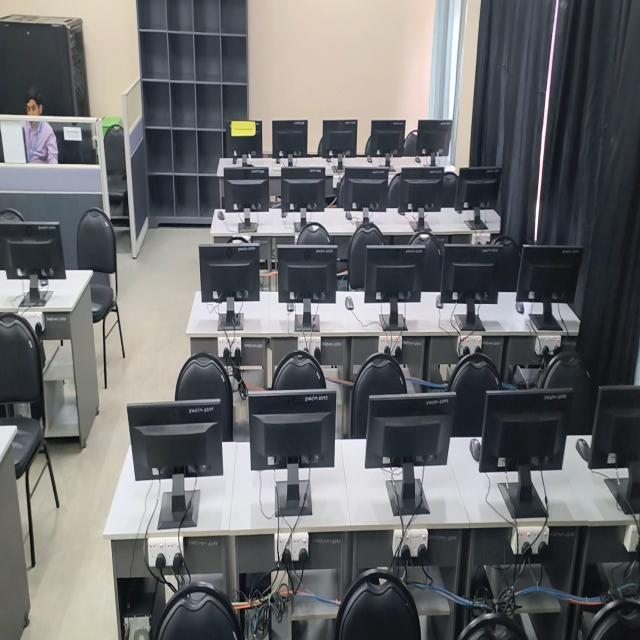Chair: (0, 313, 59, 507), (77, 208, 124, 377), (335, 568, 421, 639), (537, 343, 597, 434), (175, 353, 233, 441), (155, 582, 243, 639), (350, 352, 407, 438), (447, 350, 503, 437), (104, 119, 129, 225), (348, 222, 384, 289), (271, 350, 326, 390), (409, 228, 443, 292), (587, 600, 640, 639), (457, 612, 527, 639), (492, 235, 520, 291), (296, 222, 332, 244), (388, 173, 401, 207), (403, 130, 417, 156)
Cpu: (238, 564, 291, 639), (125, 616, 151, 639)
Monitor: (365, 392, 456, 501), (479, 389, 572, 472), (127, 400, 222, 481), (249, 389, 336, 470), (364, 245, 425, 329), (440, 245, 502, 324), (0, 211, 65, 280), (587, 386, 640, 469), (516, 245, 583, 304), (199, 244, 260, 302), (278, 244, 337, 303), (336, 167, 388, 211), (454, 167, 502, 212), (223, 166, 269, 212), (398, 167, 445, 212), (281, 167, 325, 214), (318, 119, 358, 157), (365, 120, 405, 156), (224, 120, 262, 157), (272, 120, 307, 158), (415, 120, 452, 154)
Mouse: (576, 439, 590, 467), (469, 439, 481, 462), (345, 296, 353, 309), (515, 302, 524, 313), (436, 295, 442, 309), (218, 210, 225, 219), (287, 304, 294, 312), (346, 211, 352, 220)
